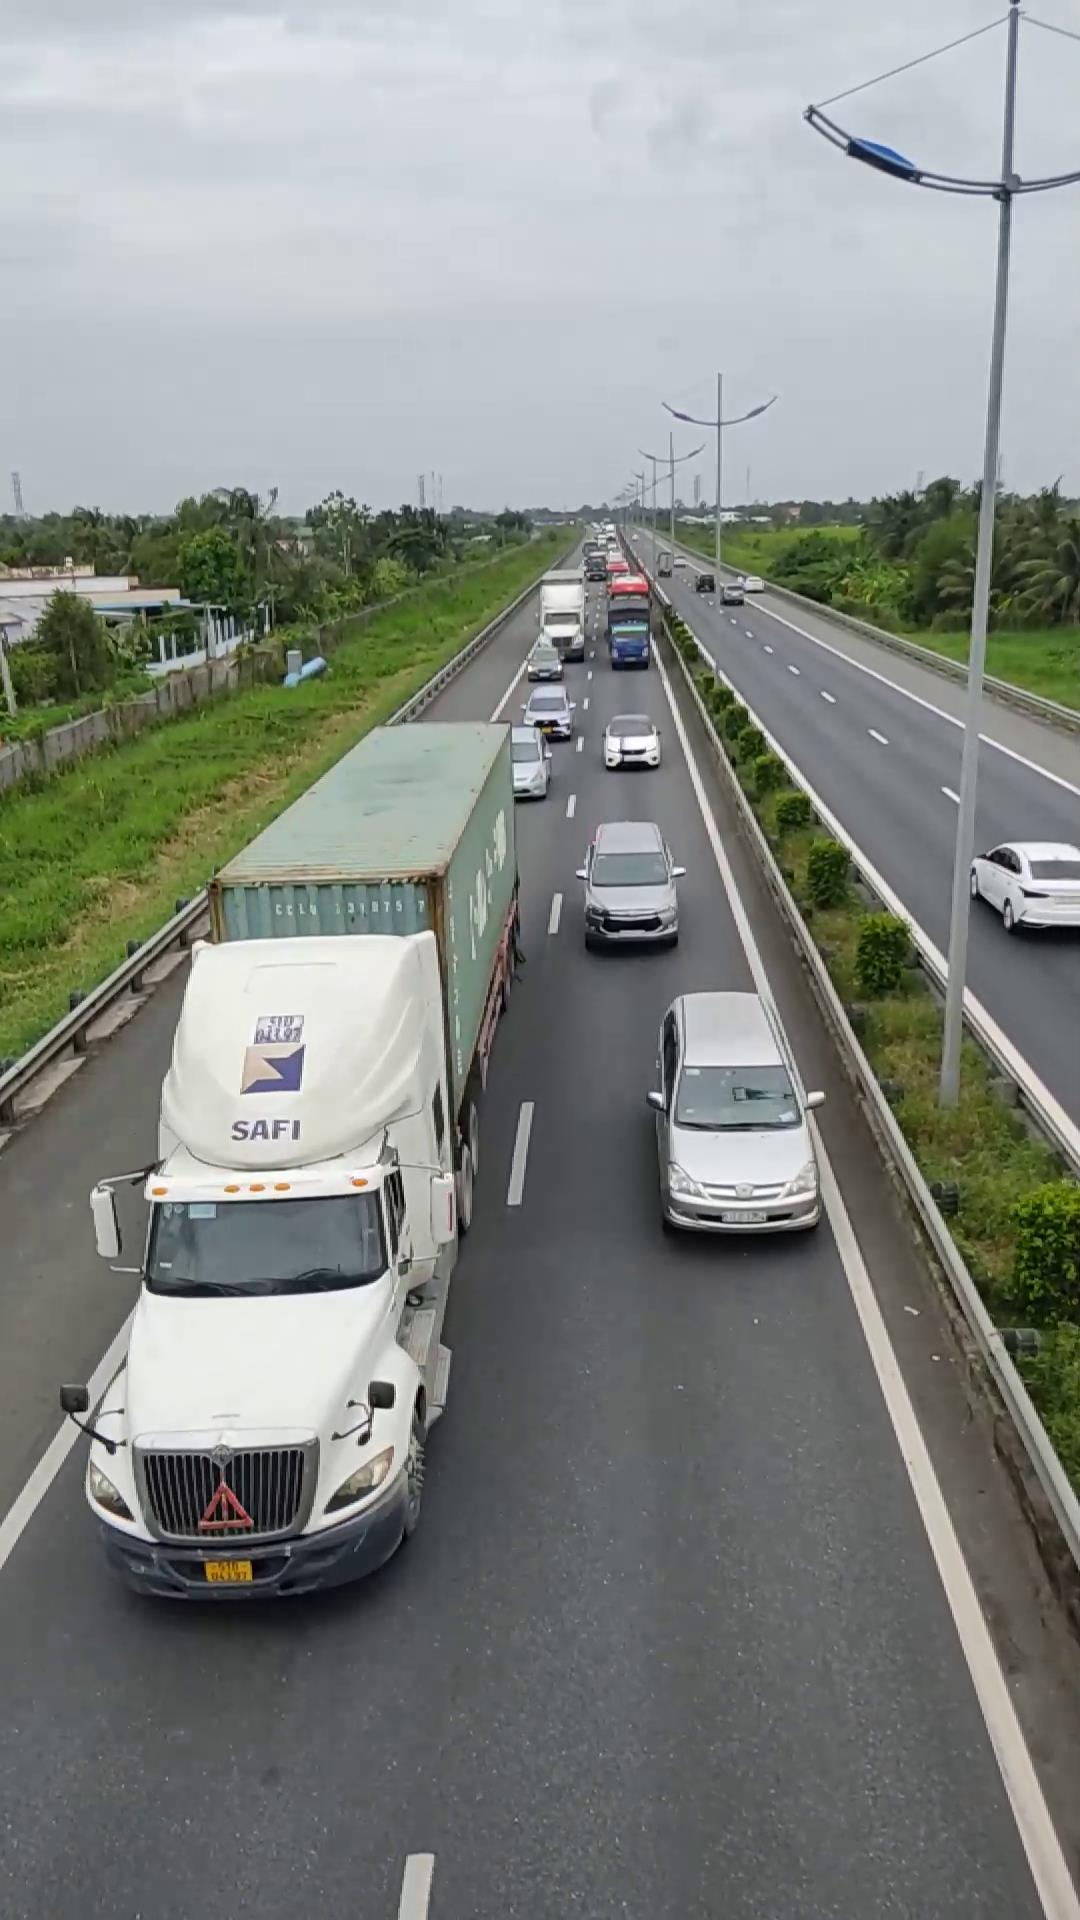car: (646, 987, 823, 1237), (577, 818, 683, 951), (969, 836, 1079, 933)
container: (87, 715, 523, 1598)
